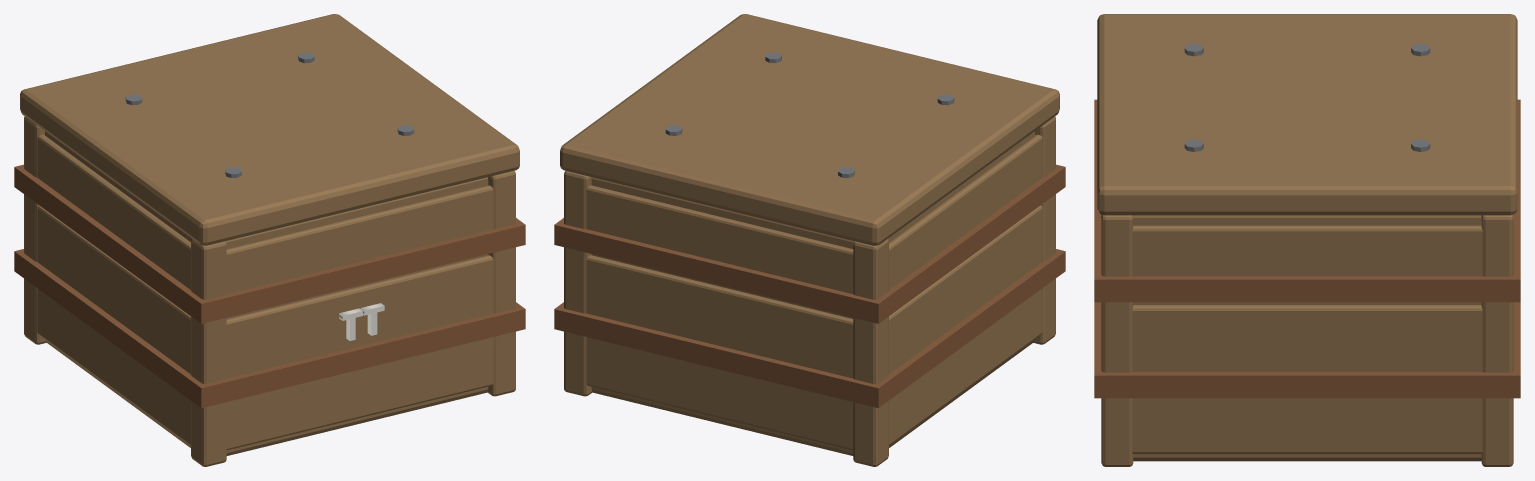
File: crate.fbx
The picture shows the model from 3 angles, left to right: view 1: azimuth 30°, elevation 25°; view 2: azimuth 150°, elevation 25°; view 3: azimuth 270°, elevation 25°; orthographic projection. The views are drawn at different scales.
Visible parts, largest first — view 1: wood_1, rust_1, cream_1, gun_1; view 2: wood_1, rust_1, gun_1; view 3: wood_1, rust_1, gun_1.
Boxes of the visible parts, box(x1,y1,x2,y2) form: wood_1: box(20, 14, 519, 466); rust_1: box(14, 164, 525, 408); cream_1: box(339, 303, 384, 340); gun_1: box(125, 52, 414, 177); wood_1: box(560, 14, 1059, 466); rust_1: box(554, 164, 1065, 408); gun_1: box(665, 52, 954, 177); wood_1: box(1097, 14, 1517, 466); rust_1: box(1094, 99, 1520, 398); gun_1: box(1184, 43, 1430, 151).
Bounding box in the file's own units: 0.612 × 0.453 × 0.612.
